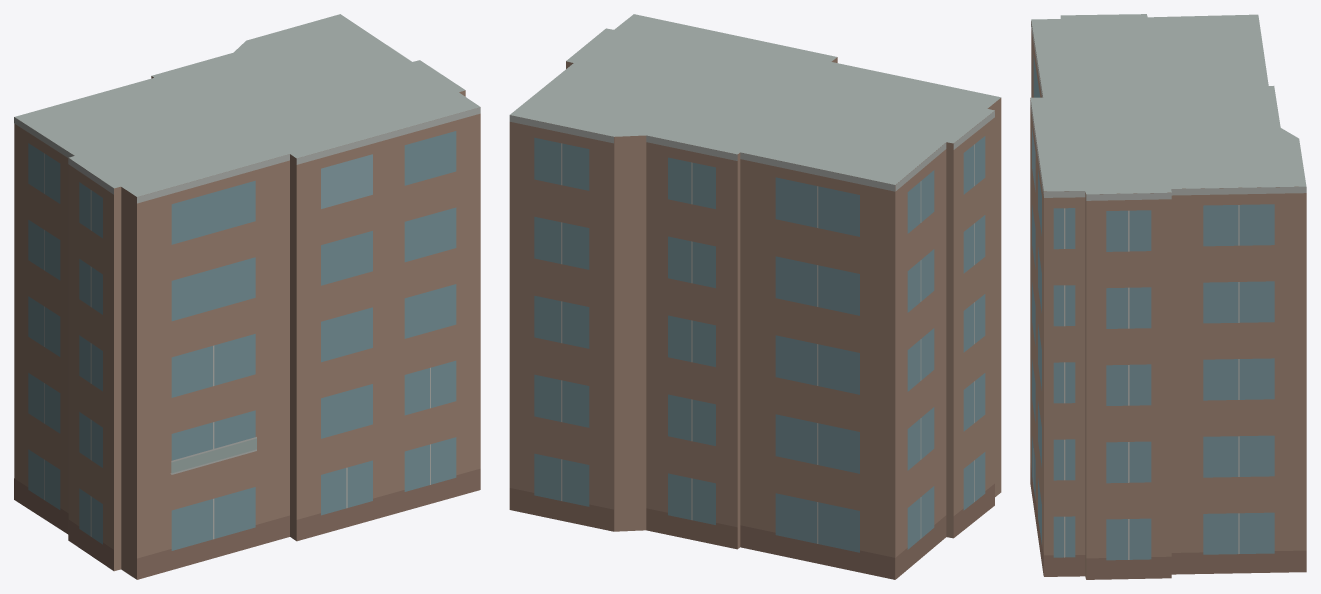
The model's file is survey-upis-32951301.glb.
3 views of the same model, side by side, from view 1: azimuth 30°, elevation 25°; view 2: azimuth 150°, elevation 25°; view 3: azimuth 270°, elevation 25° (orthographic). The views are drawn at different scales.
Parts seen in each view (by area): view 1: survey-upis-32951301.tmp; view 2: survey-upis-32951301.tmp; view 3: survey-upis-32951301.tmp.
Boxes of the visible parts, x1,y1,x2,y2 form: survey-upis-32951301.tmp: (14,14,480,579); survey-upis-32951301.tmp: (509,14,1001,579); survey-upis-32951301.tmp: (1030,14,1306,579).
Size of the model in its own units: 14.46 by 14.4 by 9.36.
